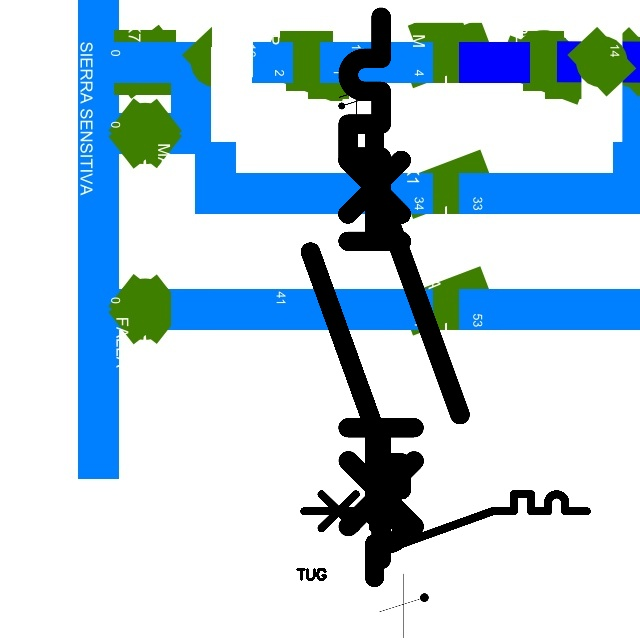interruptor_termomagnetico: (334, 3, 473, 573), (299, 121, 413, 588), (297, 487, 594, 559)
